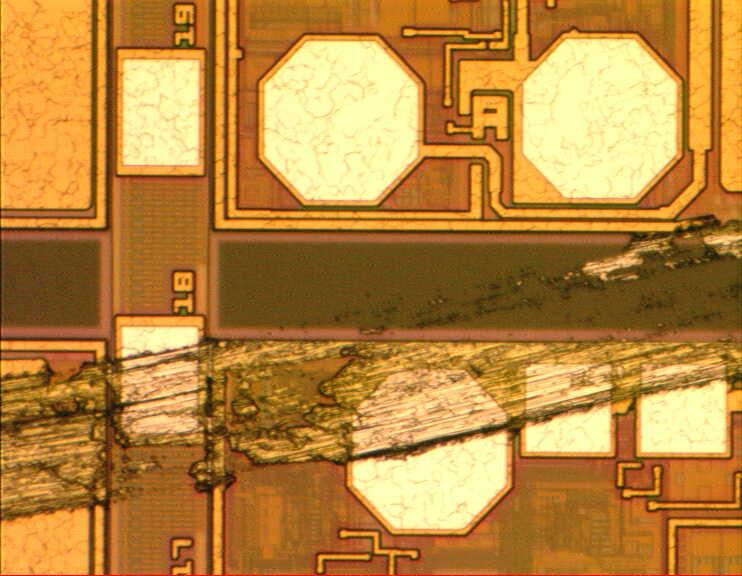SCRATCH: (1, 215, 742, 527)
